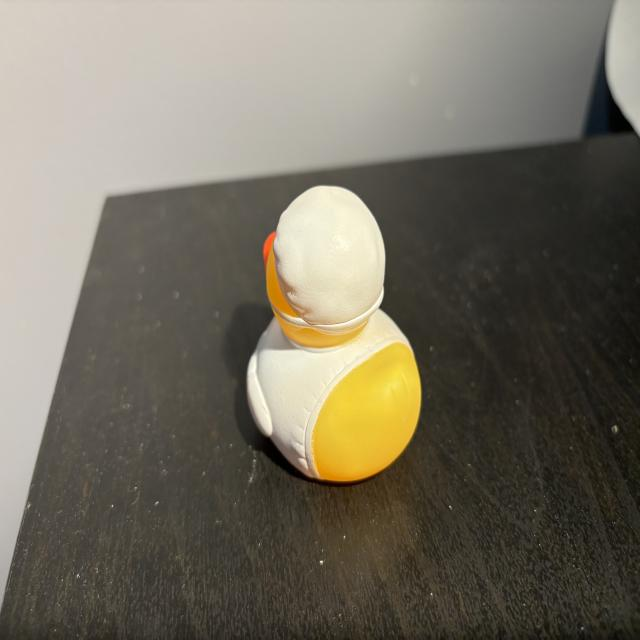duck_specialty: (248, 187, 424, 484)
